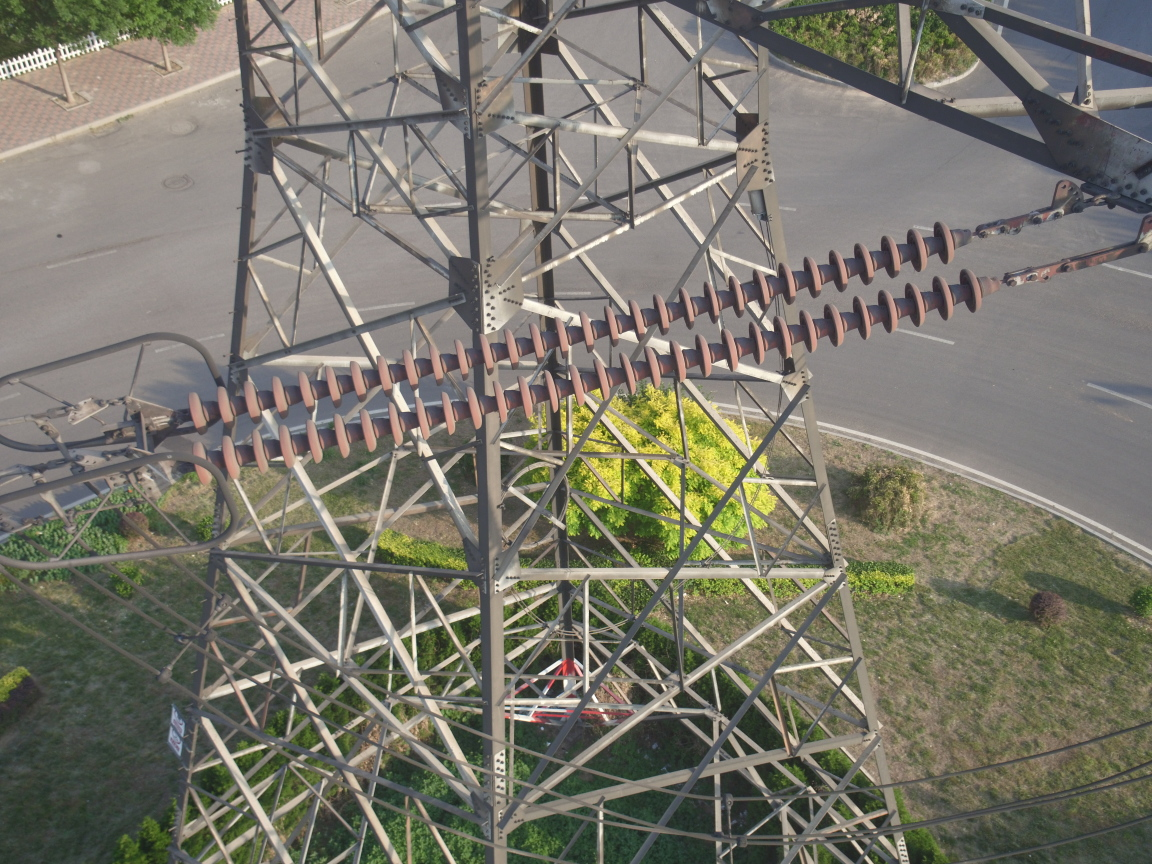insulator: (172, 217, 1026, 493)
